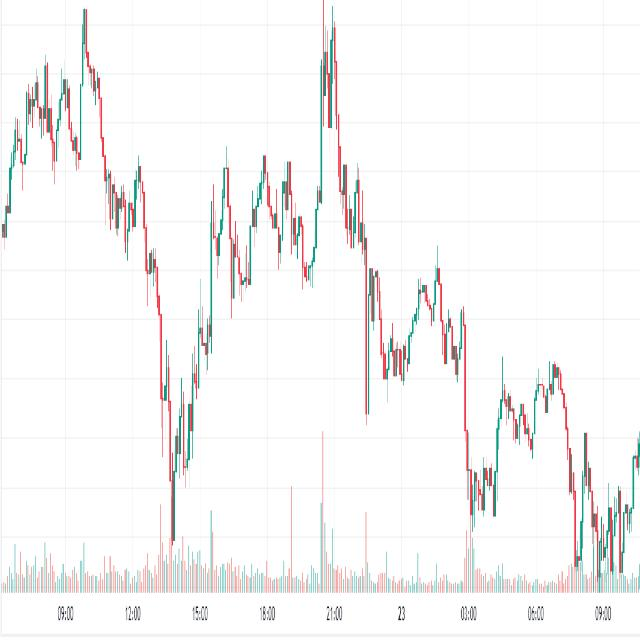Double-Top: (316, 5, 343, 140)
rectangle: (203, 155, 316, 296)
